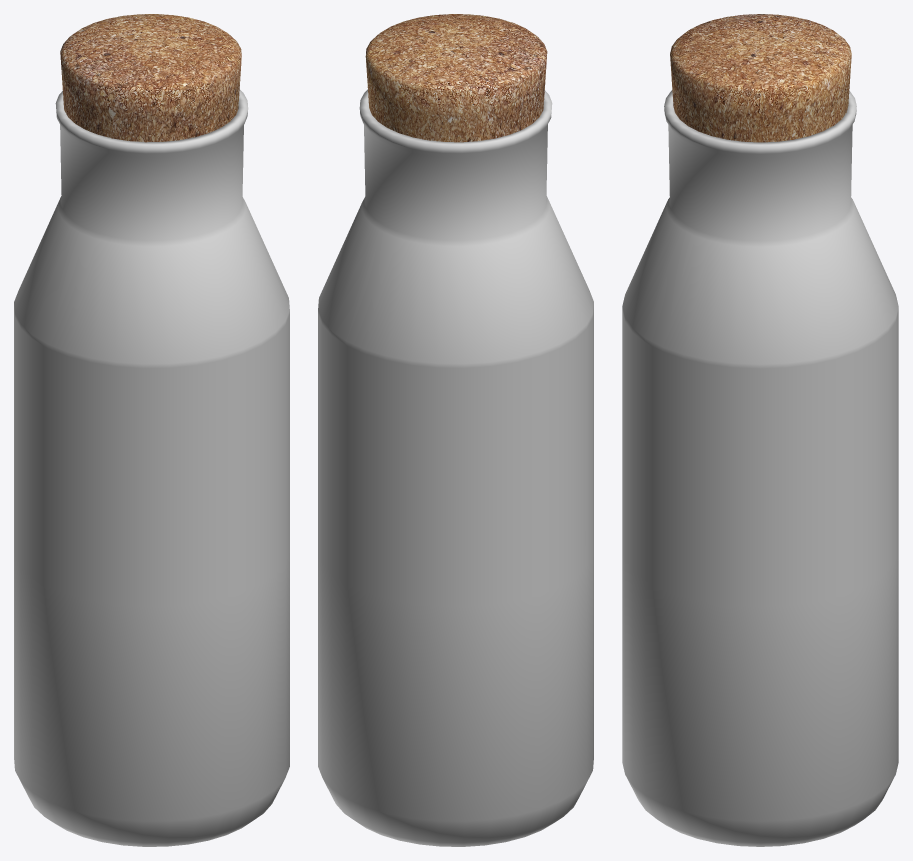
Rendered from Carafe_with_stopper.glb.
The picture shows the model from 3 angles, left to right: view 1: azimuth 30°, elevation 25°; view 2: azimuth 150°, elevation 25°; view 3: azimuth 270°, elevation 25°; orthographic projection.
Visible parts, largest first — view 1: Bottle, stopper; view 2: Bottle, stopper; view 3: Bottle, stopper.
Boxes of the visible parts, <box> form: Bottle: <box>14,89,289,846</box>; stopper: <box>60,14,241,142</box>; Bottle: <box>318,89,593,846</box>; stopper: <box>365,14,547,142</box>; Bottle: <box>622,90,898,846</box>; stopper: <box>670,14,851,142</box>.
Bounding box in the file's own units: 0.09 × 0.2743 × 0.09.
Materials: 3 (1 with a texture image).
